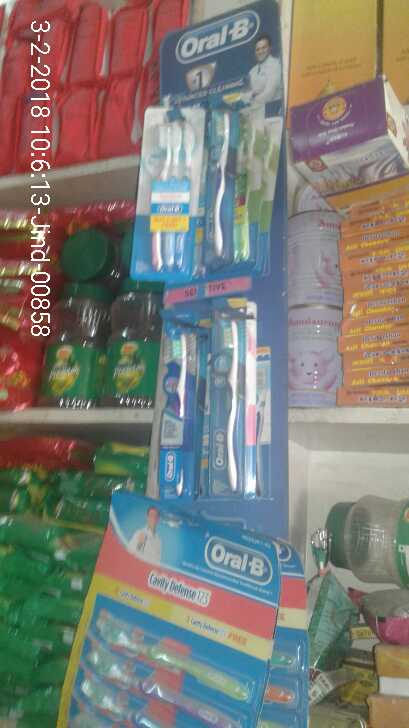oralb: (207, 303, 255, 494), (153, 320, 197, 506), (145, 119, 198, 270), (208, 102, 239, 255)
